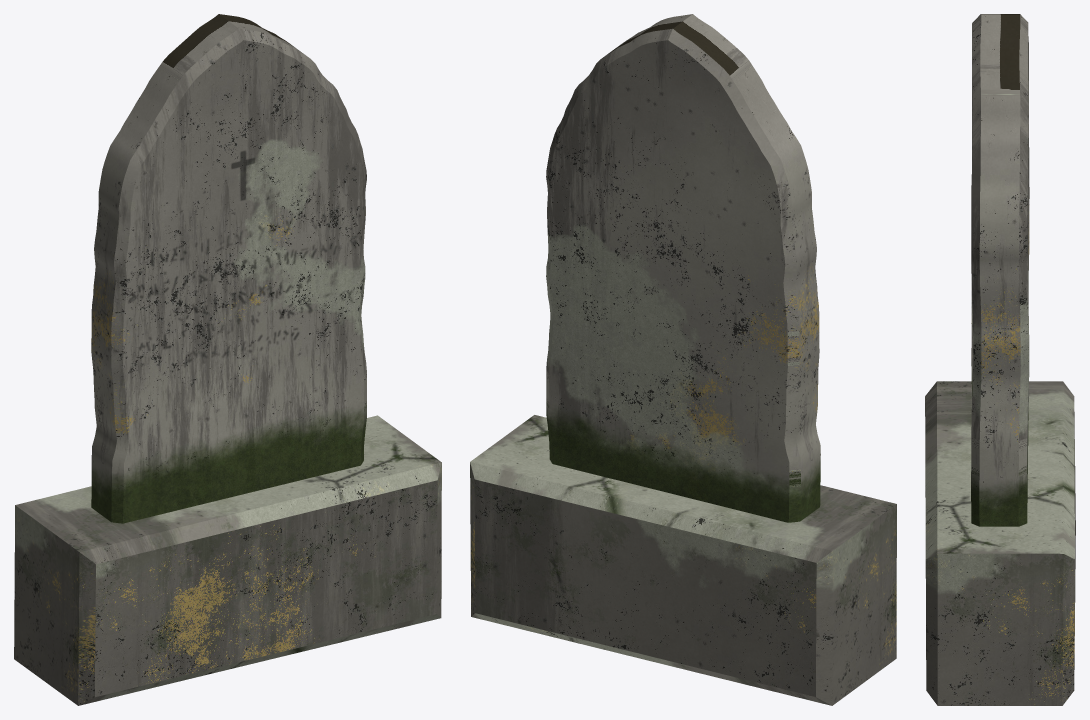
The model's file is Headstone_Gothic.gltf.
3 views of the same model, side by side, from view 1: azimuth 30°, elevation 25°; view 2: azimuth 150°, elevation 25°; view 3: azimuth 270°, elevation 25° (orthographic). The views are drawn at different scales.
Parts seen in each view (by area): view 1: Headstone_Gothic; view 2: Headstone_Gothic; view 3: Headstone_Gothic.
Part boxes in pixels (x1=…): Headstone_Gothic: x1=14, y1=14, x2=441, y2=705; Headstone_Gothic: x1=470, y1=14, x2=896, y2=705; Headstone_Gothic: x1=925, y1=14, x2=1075, y2=705.
Bounding box in the file's own units: 0.882 × 1.43 × 0.3237.
2 materials, 2 textured.
